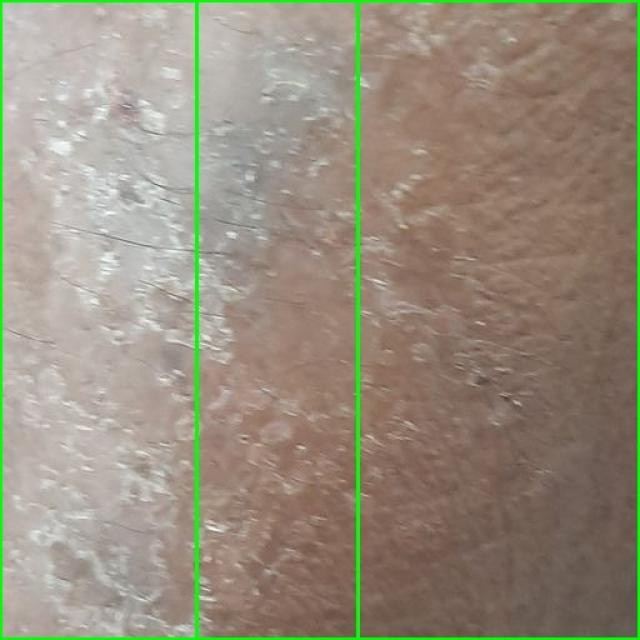Eczema: (196, 0, 639, 639), (0, 0, 358, 639)
